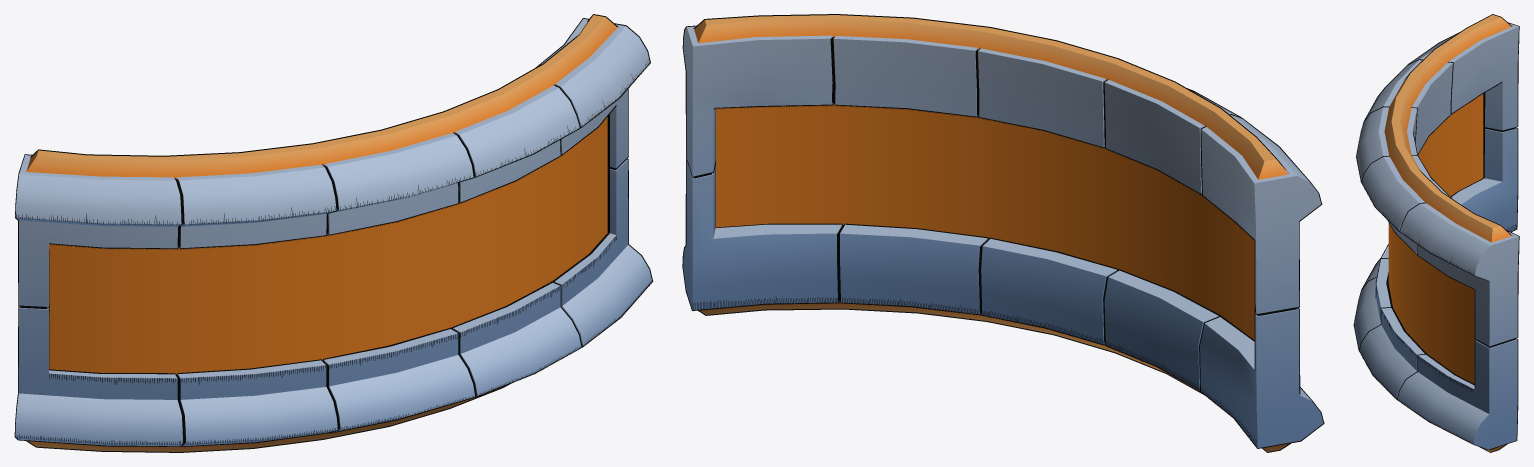
Rendered from SciFi_GlassScreen.glb.
The picture shows the model from 3 angles, left to right: view 1: azimuth 30°, elevation 25°; view 2: azimuth 150°, elevation 25°; view 3: azimuth 270°, elevation 25°; orthographic projection. The views are drawn at different scales.
Parts seen in each view (by area): view 1: SciFi_GlassScreen; view 2: SciFi_GlassScreen; view 3: SciFi_GlassScreen.
Part boxes in pixels (x1=…): SciFi_GlassScreen: x1=14, y1=14, x2=653, y2=452; SciFi_GlassScreen: x1=682, y1=14, x2=1324, y2=452; SciFi_GlassScreen: x1=1353, y1=14, x2=1519, y2=452.
Size of the model in its own units: 9.32 by 4.05 by 2.72.
Materials: 3 (2 with a texture image).
